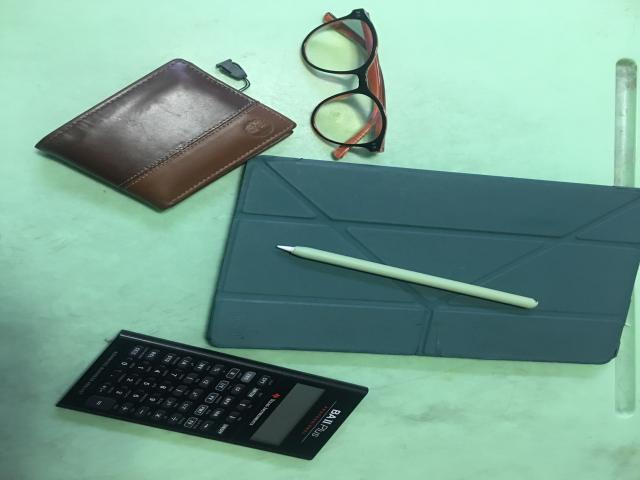Glasses: (302, 8, 387, 158)
Wallet: (35, 59, 297, 209)
